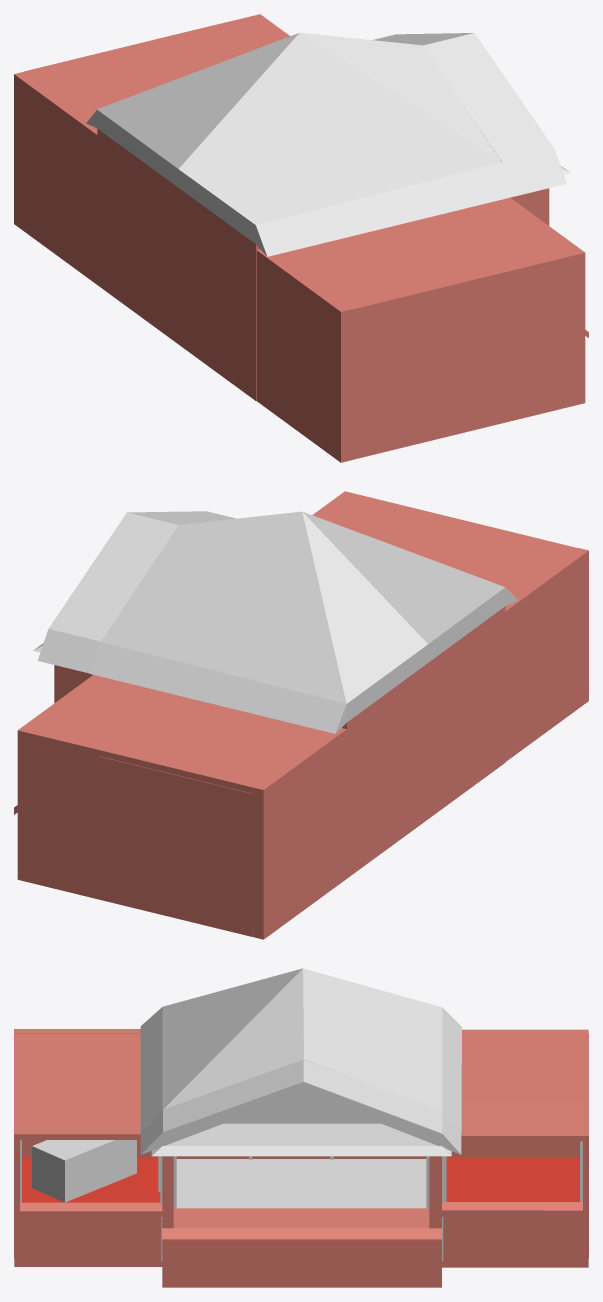
The model's file is TheShopShop.fbx.
3 views of the same model, one above another, from view 1: azimuth 30°, elevation 25°; view 2: azimuth 150°, elevation 25°; view 3: azimuth 270°, elevation 25° (orthographic). The views are drawn at different scales.
Parts seen in each view (by area): view 1: Cube, Cube.002, Cube.005; view 2: Cube, Cube.002, Cube.005; view 3: Cube, Cube.002, Cube.003, Cube.005, Cube.006, Cube.001, Cube.004, Poll.
Boxes of the visible parts, <box> form: Cube: <box>14,14,588,462</box>; Cube.002: <box>86,32,514,256</box>; Cube.005: <box>373,33,566,196</box>; Cube: <box>14,491,588,939</box>; Cube.002: <box>89,511,518,733</box>; Cube.005: <box>37,511,235,673</box>; Cube: <box>14,1029,588,1287</box>; Cube.002: <box>140,968,461,1132</box>; Cube.003: <box>176,1159,426,1208</box>; Cube.005: <box>140,1059,461,1154</box>; Cube.006: <box>22,1157,579,1202</box>; Cube.001: <box>151,1123,451,1156</box>; Cube.004: <box>32,1140,136,1202</box>; Poll: <box>161,1156,443,1261</box>.
Size of the model in its own units: 1332 by 1151 by 2429.
